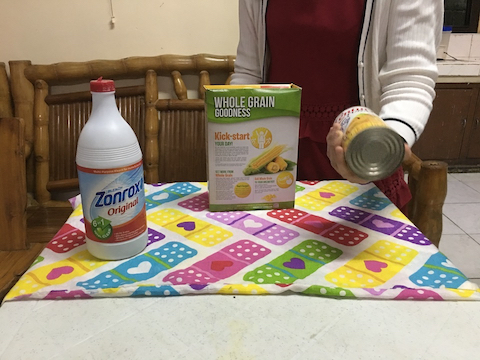bottle: (73, 75, 157, 265)
box: (203, 79, 305, 216)
can: (332, 102, 408, 179)
grab: (323, 119, 351, 182)
